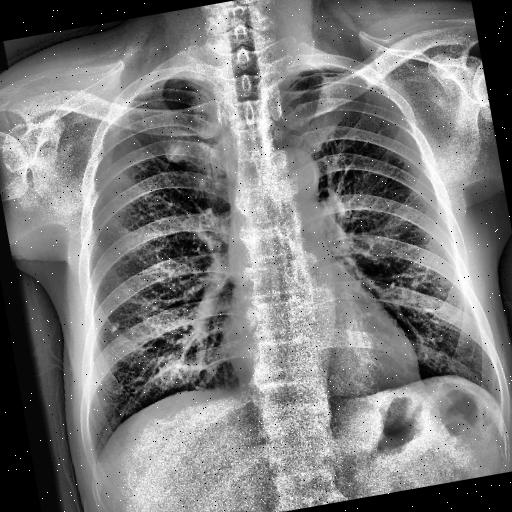0- Aortic enlargement: (258, 138, 324, 217), (259, 142, 322, 203), (266, 140, 322, 203)
8- Nodule-Mass: (110, 322, 120, 332)
